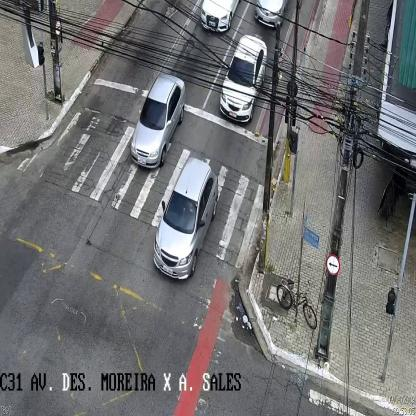bicycle: (276, 278, 318, 331)
car: (154, 158, 216, 281), (132, 74, 186, 168), (219, 33, 267, 126), (202, 0, 238, 33), (252, 0, 289, 28)
